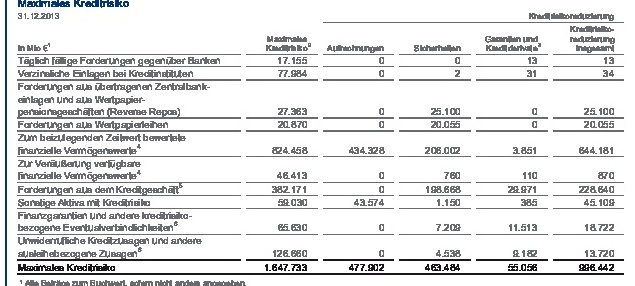table: (0, 0, 635, 286)
